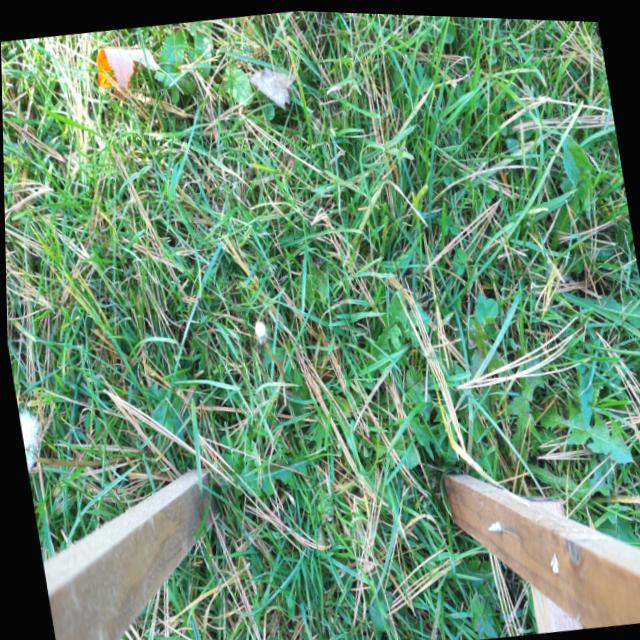base: (269, 362, 294, 399)
flower: (249, 316, 272, 352)
